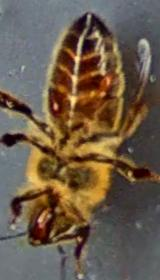varroa_mite: (93, 64, 120, 108), (47, 91, 62, 122)
